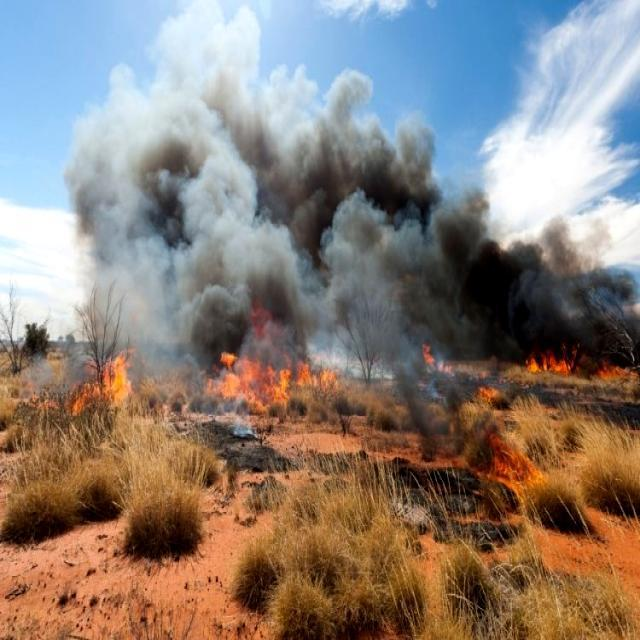Fire: (213, 347, 338, 409), (85, 343, 138, 412), (525, 351, 573, 374)
Smoke: (48, 65, 623, 409)
